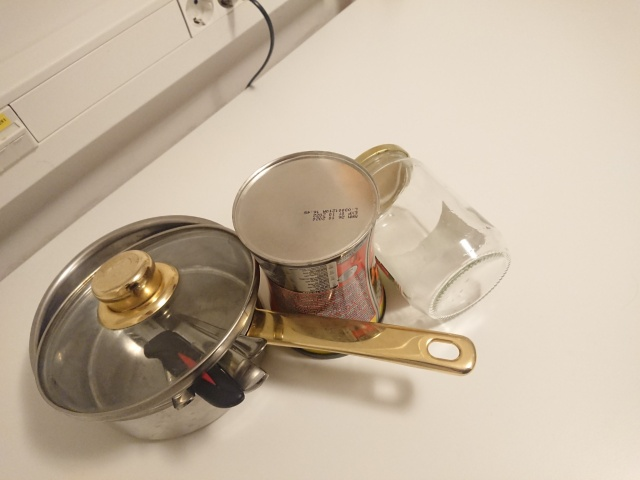Nescafe Classic 225g: (228, 147, 390, 363)
